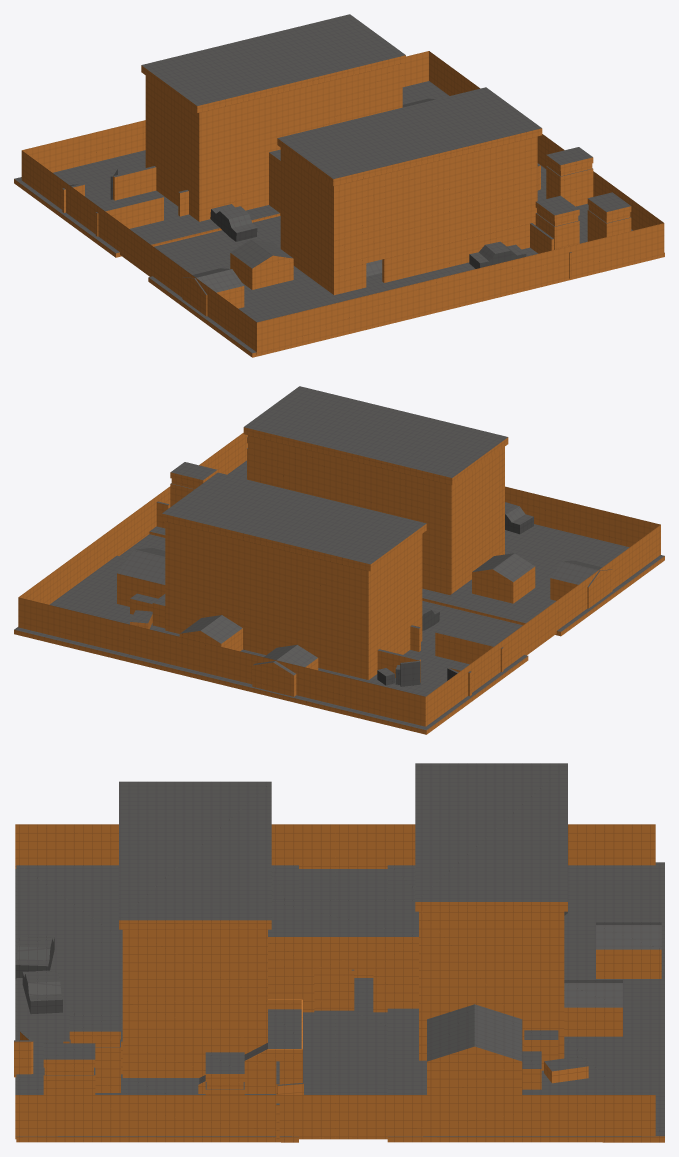
The model's file is town.glb.
3 views of the same model, one above another, from view 1: azimuth 30°, elevation 25°; view 2: azimuth 150°, elevation 25°; view 3: azimuth 270°, elevation 25° (orthographic). The views are drawn at different scales.
Parts seen in each view (by area): view 1: mesh; view 2: mesh; view 3: mesh.
Part boxes in pixels (<box>): mesh: <box>14,14,664,357</box>; mesh: <box>14,386,664,734</box>; mesh: <box>14,763,664,1142</box>.
Bounding box in the file's own units: 71.2 × 20.82 × 71.17.
Materials: 2 (2 with a texture image).
